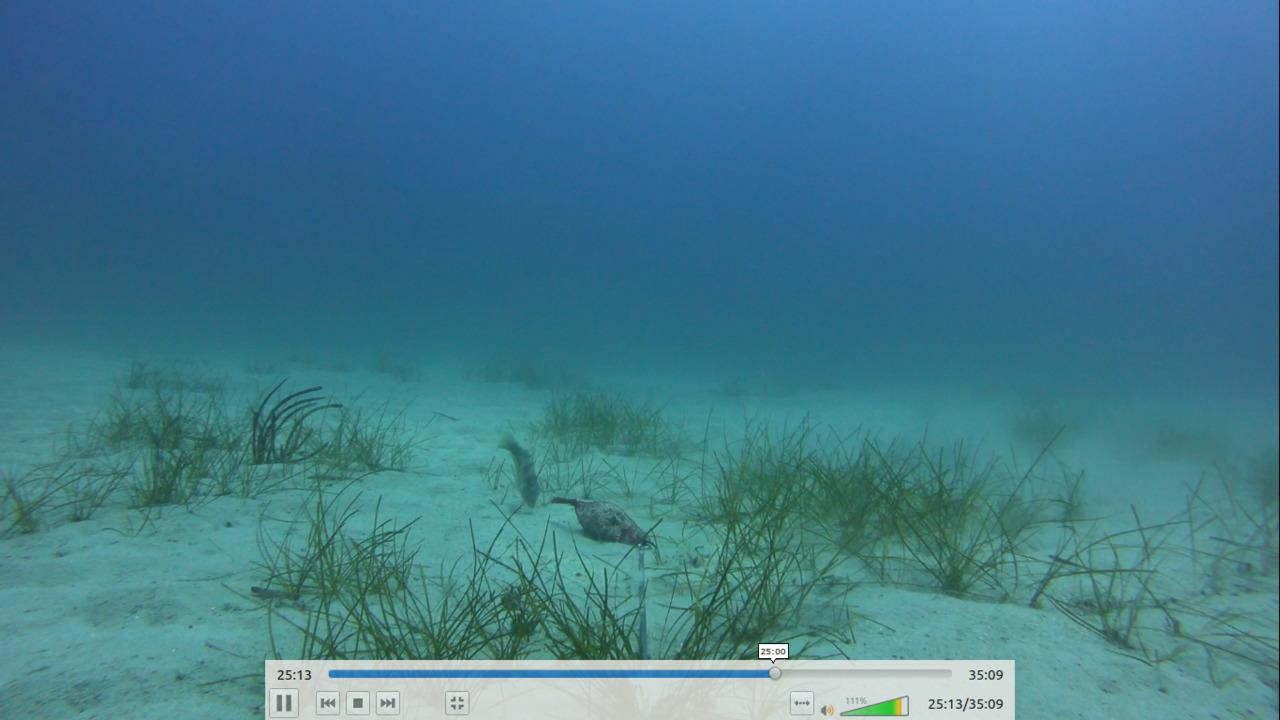raor: (490, 428, 541, 510)
